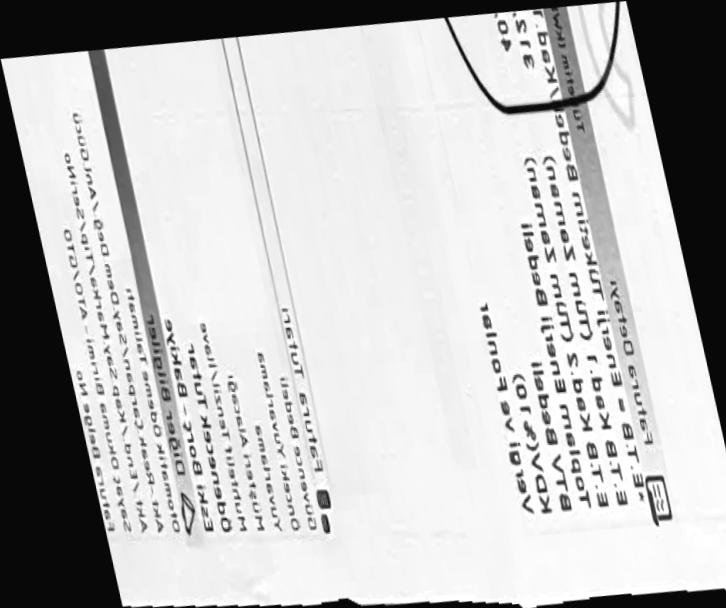electricity-bill: (1, 0, 726, 608)
